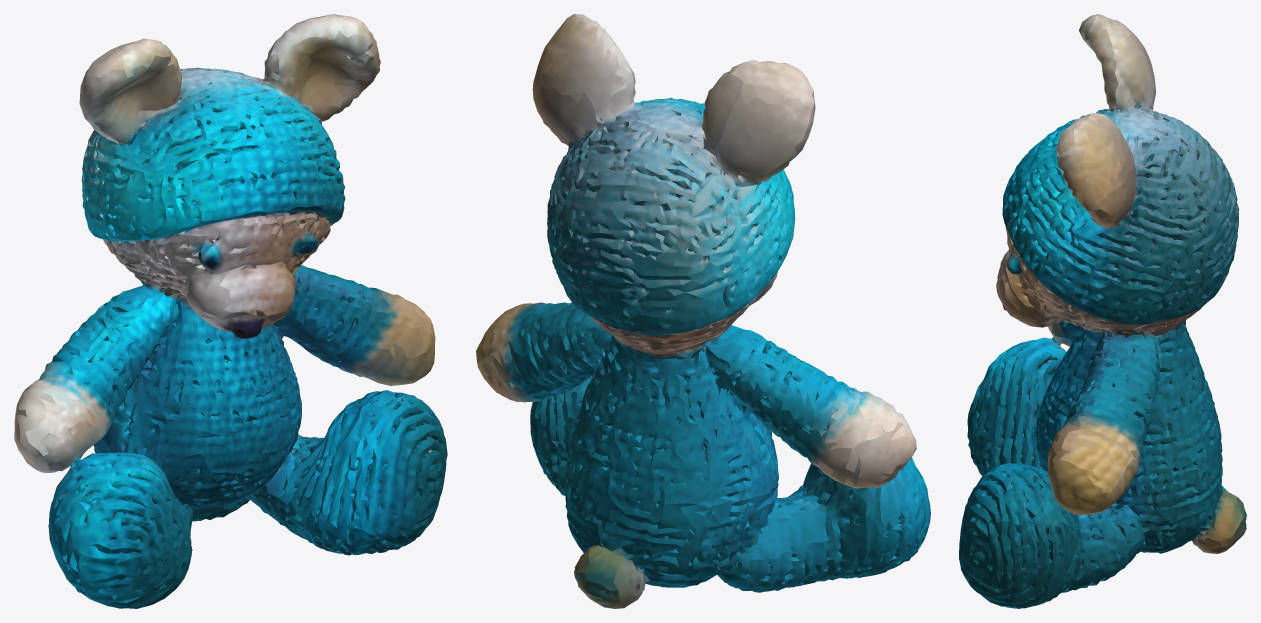
The picture shows the model from 3 angles, left to right: view 1: azimuth 30°, elevation 25°; view 2: azimuth 150°, elevation 25°; view 3: azimuth 270°, elevation 25°; orthographic projection. The views are drawn at different scales.
Visible parts, largest first — view 1: geometry_0; view 2: geometry_0; view 3: geometry_0.
Part boxes in pixels (x1,y1,x2,y2): geometry_0: (14,14,447,608); geometry_0: (476,14,930,608); geometry_0: (959,14,1246,608).
Bounding box in the file's own units: 0.2718 × 0.32 × 0.1707.
1 material, 1 textured.
